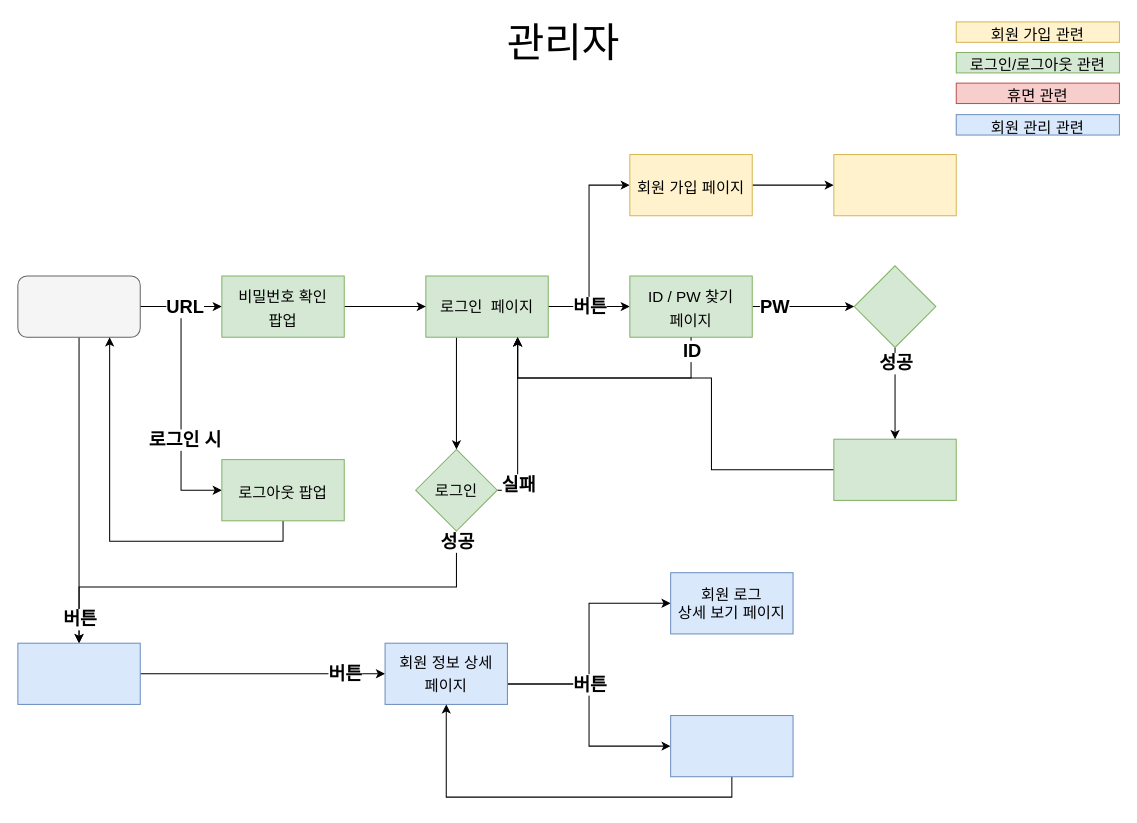
Image size: 1137x823. Some labels were removed from this diagram. The centre of each missing label's shape, as x and y in pixels:
Block / 해제 팝업: point (731, 746)
마스터 관리자 승인 / 거절: point (894, 185)
메인 페이지: point (78, 306)
비밀번호 재설정 페이지: point (894, 469)
이메일 인증: point (894, 306)
회원 정보 리스트 페이지: point (78, 673)
